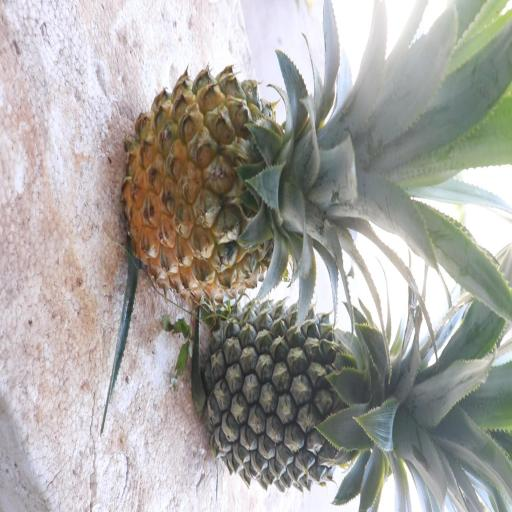Pineapple - v8 v1: (125, 70, 397, 305)
